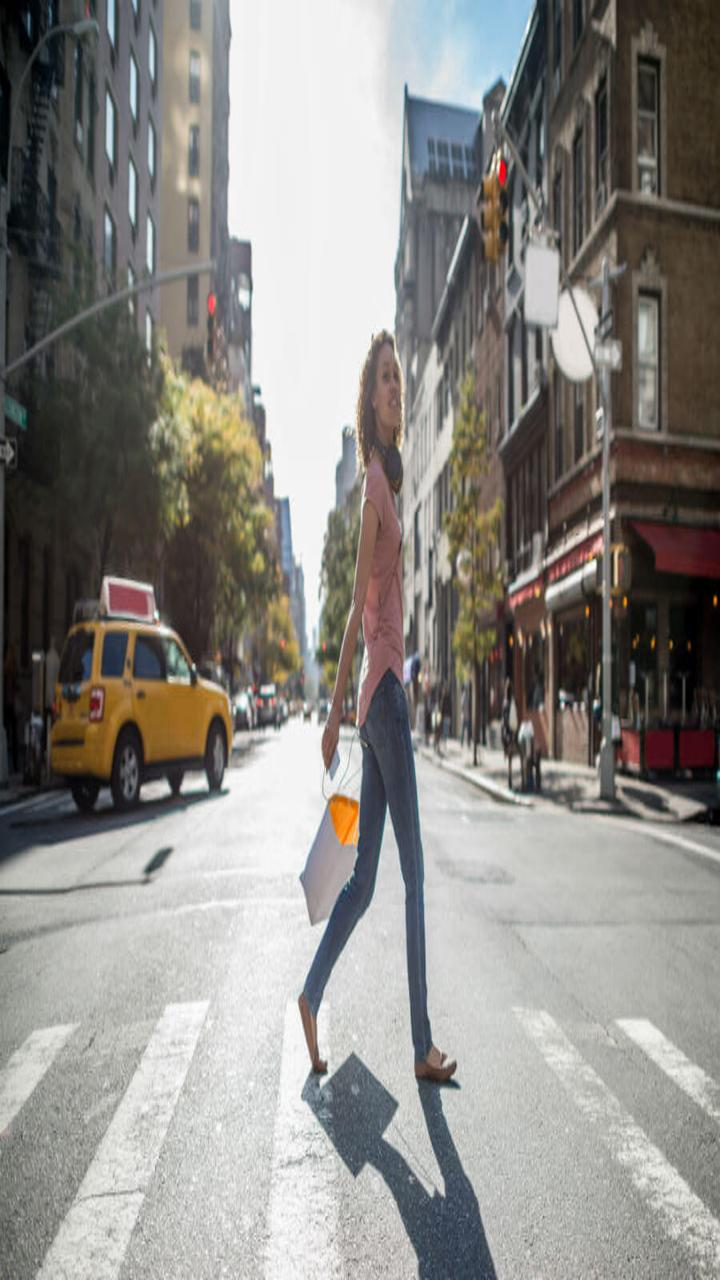pedestrian: (287, 304, 482, 1111)
vehicle: (31, 564, 260, 804)
